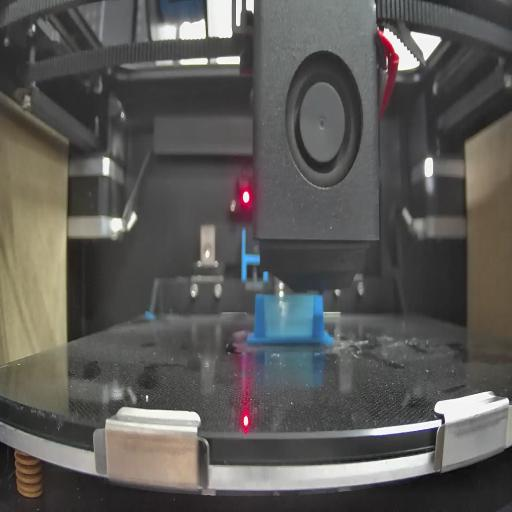stringing: (267, 298, 312, 338)
